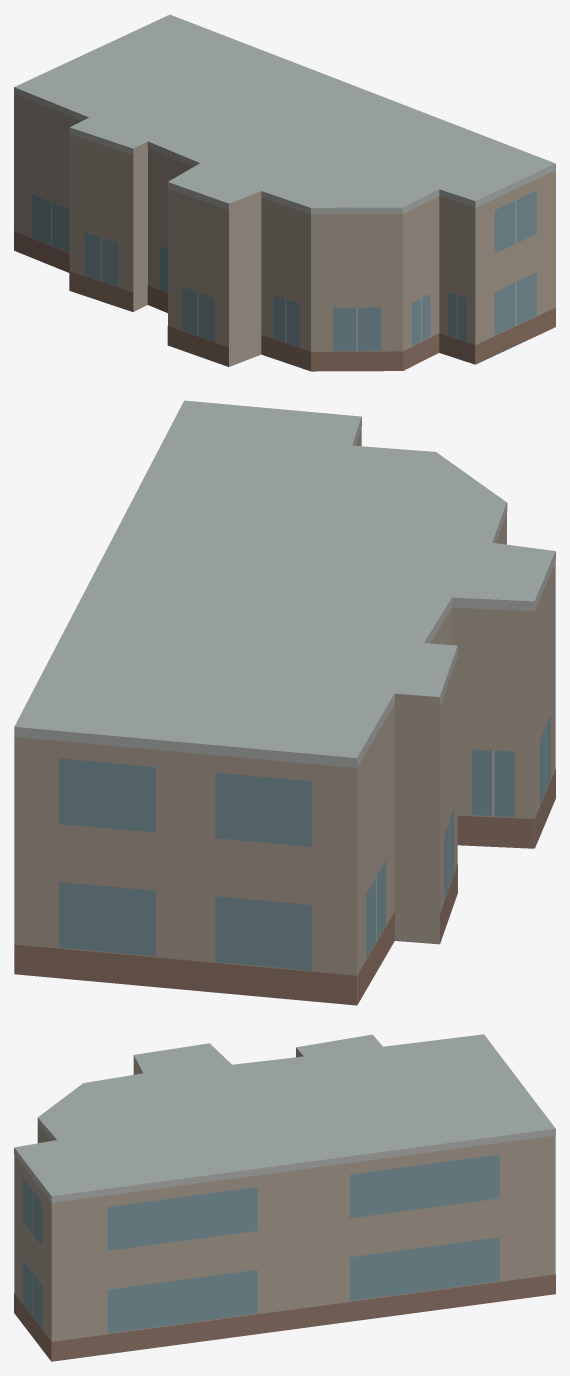
Rendered from survey-upis-32883543.glb.
3 views of the same model, one above another, from view 1: azimuth 30°, elevation 25°; view 2: azimuth 150°, elevation 25°; view 3: azimuth 270°, elevation 25° (orthographic). The views are drawn at different scales.
Visible parts, largest first — view 1: survey-upis-32883543.tmp; view 2: survey-upis-32883543.tmp; view 3: survey-upis-32883543.tmp.
Boxes of the visible parts, <box> form: survey-upis-32883543.tmp: <box>14,14,555,371</box>; survey-upis-32883543.tmp: <box>14,400,555,1005</box>; survey-upis-32883543.tmp: <box>14,1034,555,1361</box>.
Size of the model in its own units: 12.61 by 6 by 17.82.
